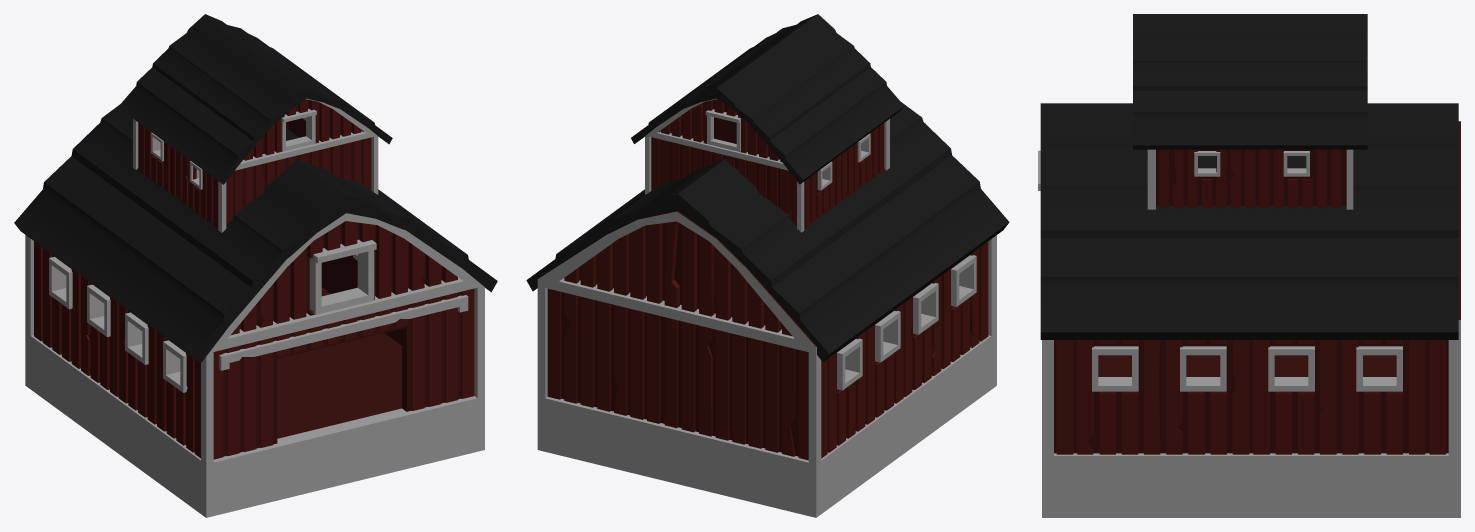
The model's file is BigBarn.FBX.
The picture shows the model from 3 angles, left to right: view 1: azimuth 30°, elevation 25°; view 2: azimuth 150°, elevation 25°; view 3: azimuth 270°, elevation 25°; orthographic projection. The views are drawn at different scales.
Parts seen in each view (by area): view 1: BigBarn; view 2: BigBarn; view 3: BigBarn.
Part boxes in pixels (x1=…): BigBarn: x1=14, y1=14, x2=497, y2=517; BigBarn: x1=526, y1=14, x2=1009, y2=517; BigBarn: x1=1038, y1=14, x2=1460, y2=517.
Size of the model in its own units: 773 by 893 by 805.
